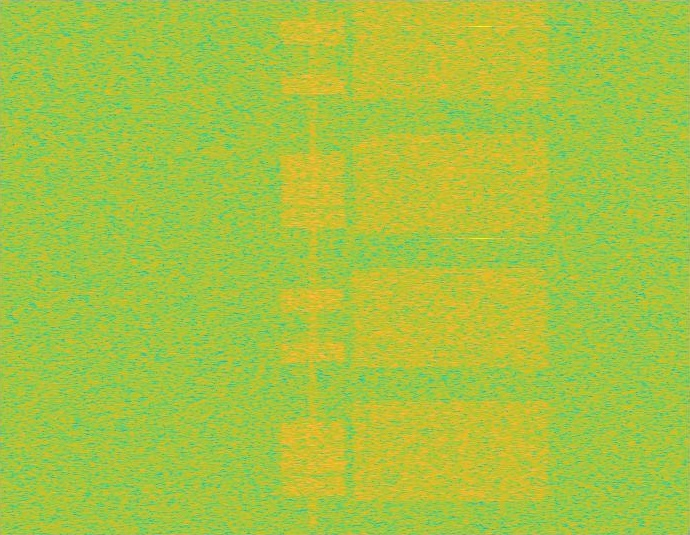5G: (348, 0, 555, 534)
DSSS: (308, 0, 318, 534)
LTE: (279, 0, 348, 534)
Radar: (474, 0, 488, 534)
